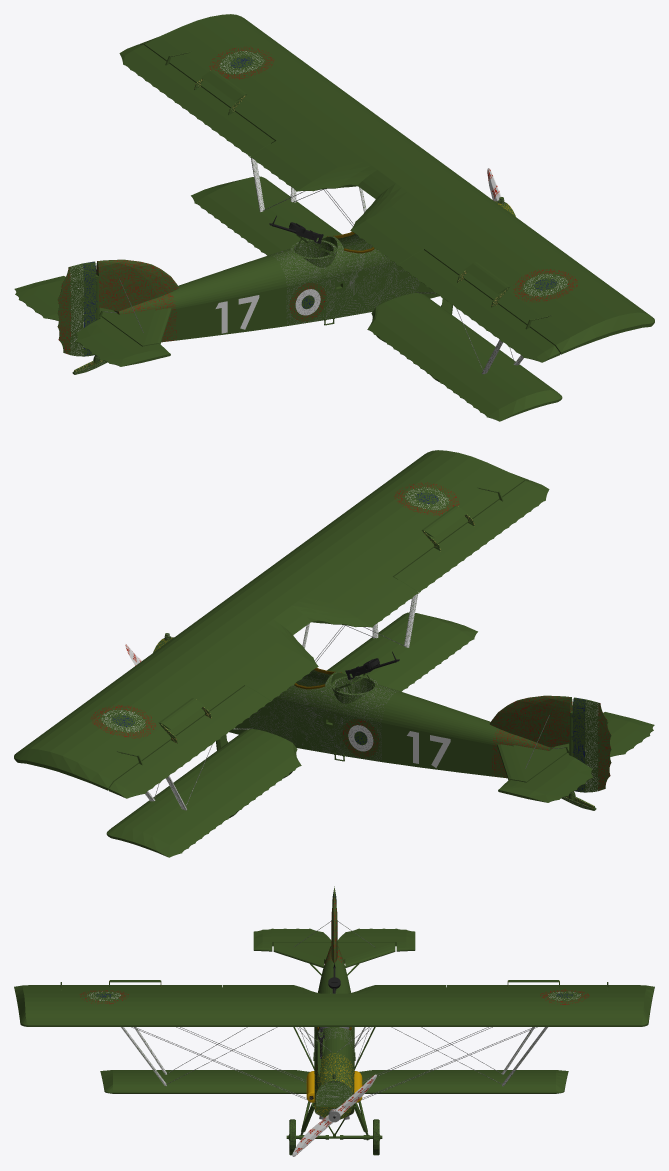
3 views of the same model, one above another, from view 1: azimuth 30°, elevation 25°; view 2: azimuth 150°, elevation 25°; view 3: azimuth 270°, elevation 25° (orthographic). The views are drawn at different scales.
Parts seen in each view (by area): view 1: mesh142.001_mesh142-geometry, mesh447.001_mesh447-geometry, mesh602.003_mesh602-geometry, mesh630.003_mesh630-geometry, mesh569.003_mesh569-geometry, mesh125.002_mesh125-geometry, mesh628.004_mesh628-geometry, mesh551.003_mesh551-geometry, mesh600.004_mesh600-geometry, mesh74.002_mesh74-geometry, mesh626.020_mesh626-geometry, mesh598.020_mesh598-geometry (+39 smaller); view 2: mesh142.001_mesh142-geometry, mesh447.001_mesh447-geometry, mesh630.003_mesh630-geometry, mesh602.003_mesh602-geometry, mesh551.003_mesh551-geometry, mesh60.002_mesh60-geometry, mesh600.004_mesh600-geometry, mesh569.003_mesh569-geometry, mesh628.004_mesh628-geometry, mesh97.002_mesh97-geometry, mesh598.020_mesh598-geometry, mesh626.020_mesh626-geometry (+39 smaller); view 3: mesh630.003_mesh630-geometry, mesh602.003_mesh602-geometry, mesh447.001_mesh447-geometry, mesh569.003_mesh569-geometry, mesh551.003_mesh551-geometry, mesh628.004_mesh628-geometry, mesh600.004_mesh600-geometry, mesh142.001_mesh142-geometry, mesh97.002_mesh97-geometry, mesh74.002_mesh74-geometry, mesh440.005_mesh440-geometry, mesh103.003_mesh103-geometry (+1 smaller).
Part boxes in pixels (left/top/right/bottom): mesh142.001_mesh142-geometry: left=96, top=255, right=286, bottom=342; mesh447.001_mesh447-geometry: left=269, top=197, right=515, bottom=325; mesh602.003_mesh602-geometry: left=462, top=183, right=654, bottom=354; mesh630.003_mesh630-geometry: left=140, top=14, right=419, bottom=146; mesh569.003_mesh569-geometry: left=431, top=302, right=562, bottom=421; mesh125.002_mesh125-geometry: left=57, top=261, right=99, bottom=356; mesh628.004_mesh628-geometry: left=297, top=144, right=442, bottom=191; mesh551.003_mesh551-geometry: left=191, top=176, right=341, bottom=241; mesh600.004_mesh600-geometry: left=351, top=166, right=472, bottom=229; mesh74.002_mesh74-geometry: left=102, top=308, right=171, bottom=346; mesh626.020_mesh626-geometry: left=287, top=136, right=407, bottom=191; mesh598.020_mesh598-geometry: left=350, top=183, right=470, bottom=237; mesh142.001_mesh142-geometry: left=382, top=691, right=572, bottom=778; mesh447.001_mesh447-geometry: left=153, top=633, right=399, bottom=761; mesh630.003_mesh630-geometry: left=14, top=619, right=206, bottom=790; mesh602.003_mesh602-geometry: left=249, top=450, right=528, bottom=582; mesh551.003_mesh551-geometry: left=106, top=738, right=237, bottom=857; mesh60.002_mesh60-geometry: left=569, top=697, right=611, bottom=792; mesh600.004_mesh600-geometry: left=226, top=580, right=371, bottom=627; mesh569.003_mesh569-geometry: left=327, top=612, right=477, bottom=677; mesh628.004_mesh628-geometry: left=196, top=602, right=317, bottom=665; mesh97.002_mesh97-geometry: left=497, top=744, right=566, bottom=782; mesh598.020_mesh598-geometry: left=261, top=572, right=381, bottom=627; mesh626.020_mesh626-geometry: left=198, top=619, right=318, bottom=673; mesh630.003_mesh630-geometry: left=375, top=987, right=653, bottom=1026; mesh602.003_mesh602-geometry: left=15, top=987, right=293, bottom=1026; mesh447.001_mesh447-geometry: left=314, top=993, right=354, bottom=1119; mesh569.003_mesh569-geometry: left=100, top=1070, right=294, bottom=1093; mesh551.003_mesh551-geometry: left=374, top=1070, right=568, bottom=1093; mesh628.004_mesh628-geometry: left=339, top=985, right=374, bottom=1026; mesh600.004_mesh600-geometry: left=294, top=985, right=329, bottom=1026; mesh142.001_mesh142-geometry: left=318, top=897, right=350, bottom=993; mesh97.002_mesh97-geometry: left=337, top=942, right=395, bottom=967; mesh74.002_mesh74-geometry: left=273, top=942, right=331, bottom=967; mesh440.005_mesh440-geometry: left=292, top=1115, right=332, bottom=1156; mesh103.003_mesh103-geometry: left=396, top=929, right=415, bottom=951.
Size of the model in its own units: 0.5225 by 0.2137 by 0.8254.
